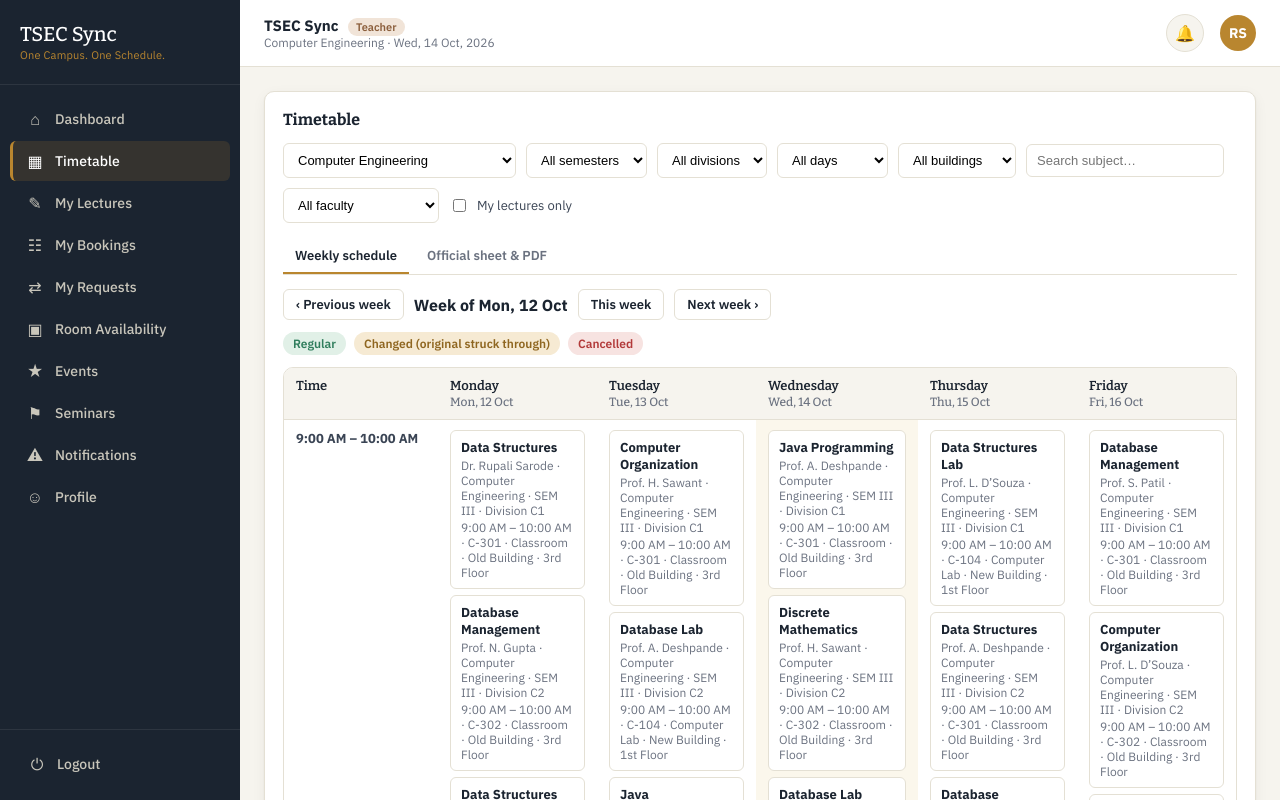
Test: Task 1 — one Timetable tab › official lectures take part in the weekly view with approved changes; pending requests are shown separately, never as final
the seed contains one pending request from this teacher for a COMP lecture
Select "Computer Engineering" in the dropdown named "Department" at (400, 161), box [283,143,516,178]
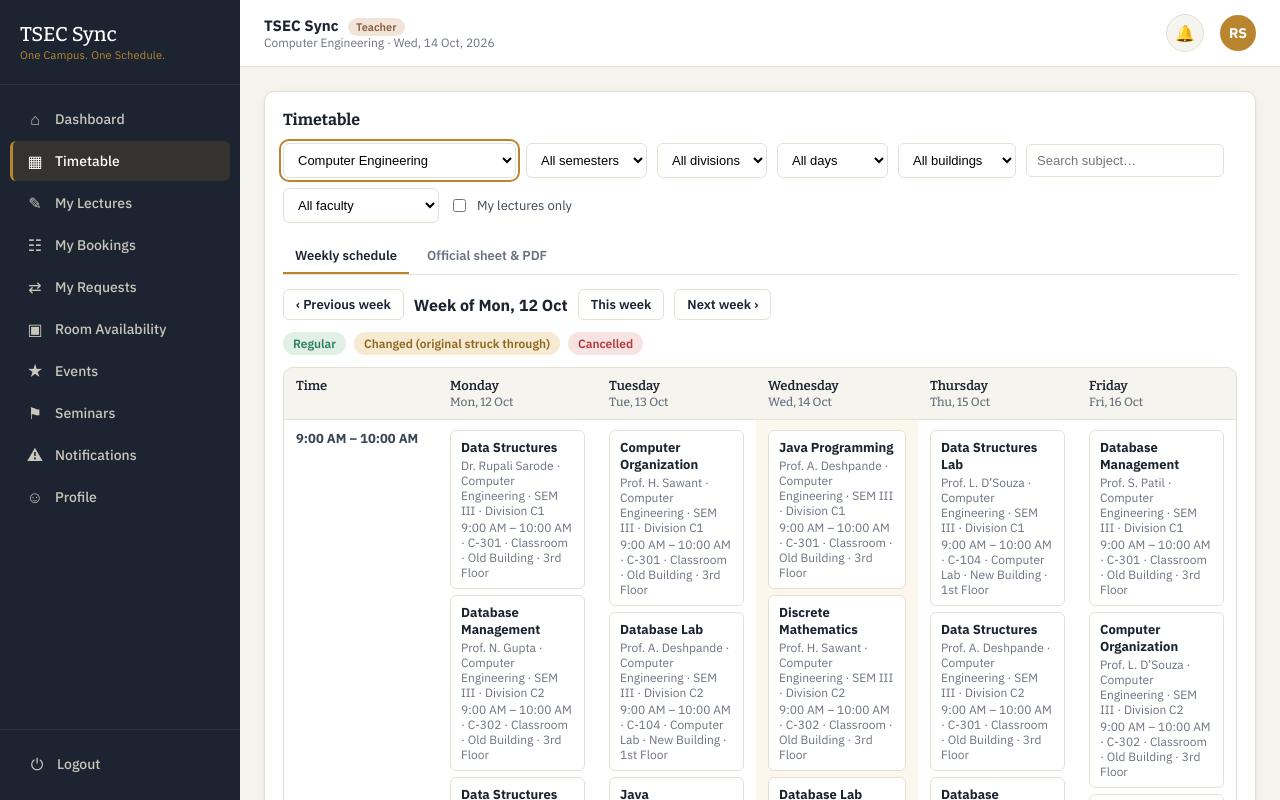
Select "SEM V" in the dropdown named "Semester" at (586, 161), box [526,143,647,178]
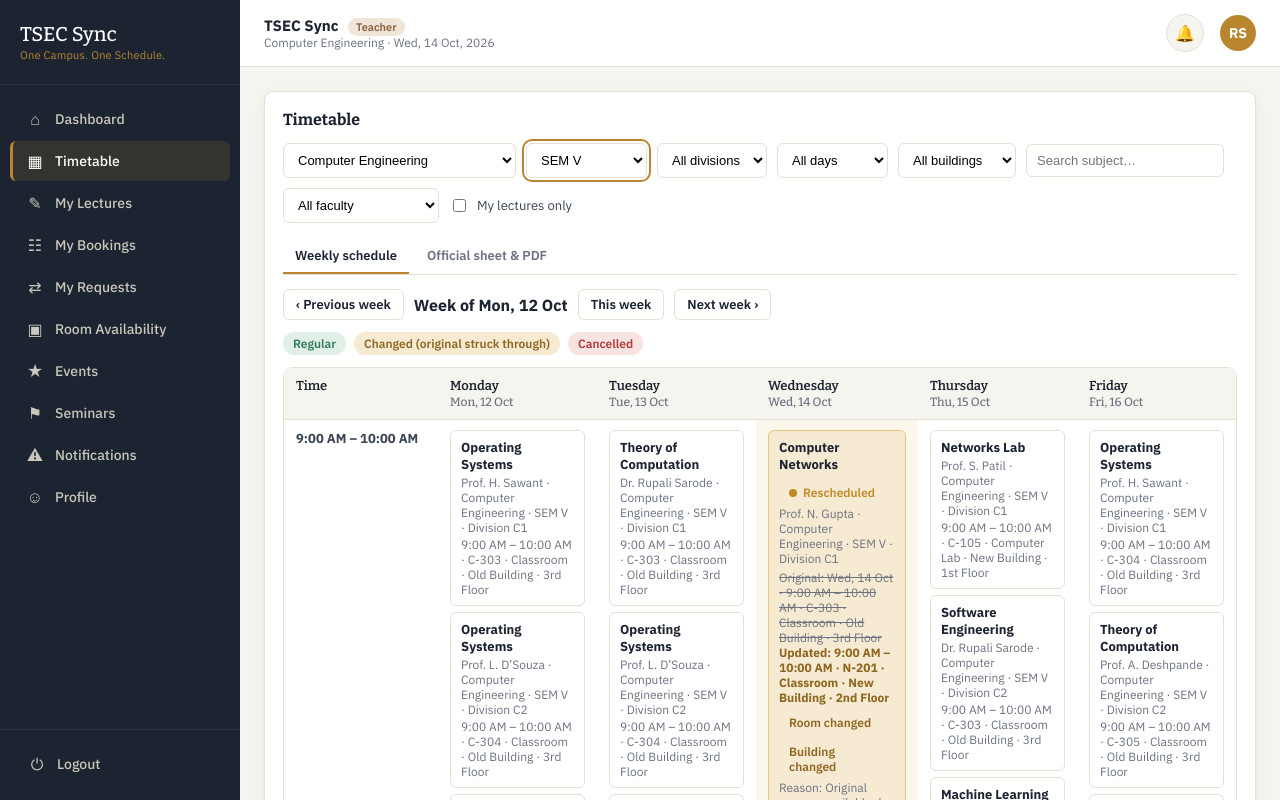
Select "Division C2" in the dropdown named "Division" at (712, 161), box [657,143,767,178]
(page scrolled)
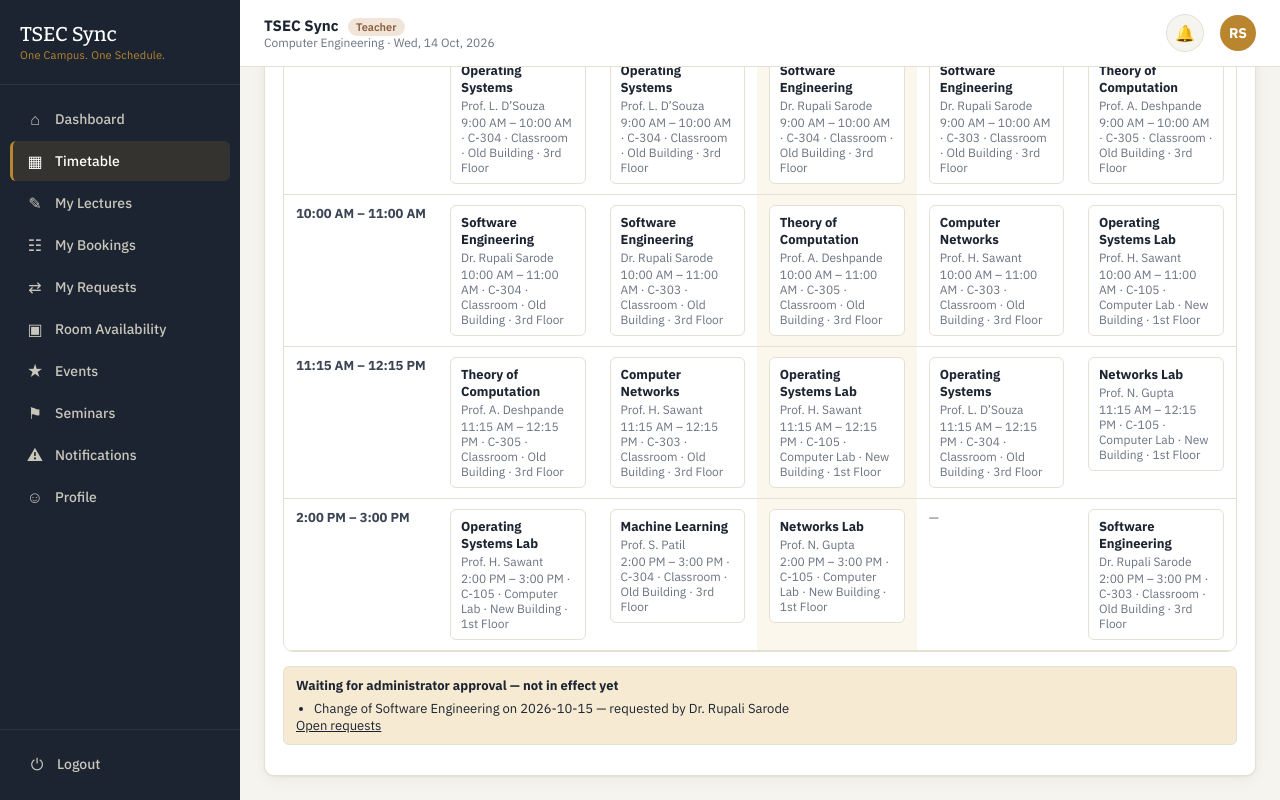
Check: the text "Waiting for administrator approval — not in effect yet" is shown, box [296,677,618,694]
